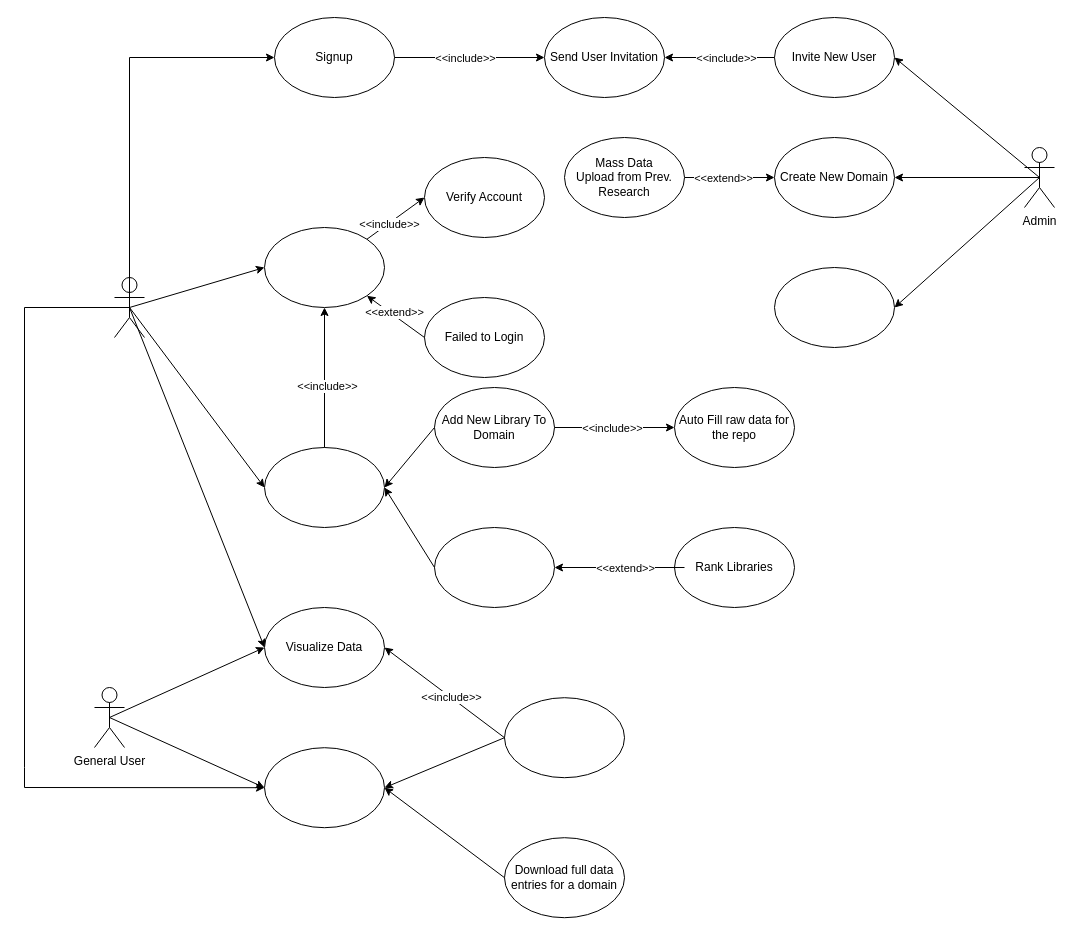
Some shapes in this 1074 by 936 pixel diagram are drawn without their labels. The shapes that lost their labels are listed below. From the top down, each one's box as (x1, y1, x2, y2) in pixels, then its label:
(264, 226, 384, 308): Login
(114, 276, 144, 338): Reseacher
(774, 266, 894, 348): Publish Domain for General Users to see
(264, 446, 384, 528): Update Data
(434, 526, 554, 608): Update/Modify library data
(504, 697, 624, 778): Download graph
(264, 747, 384, 828): Download Data
